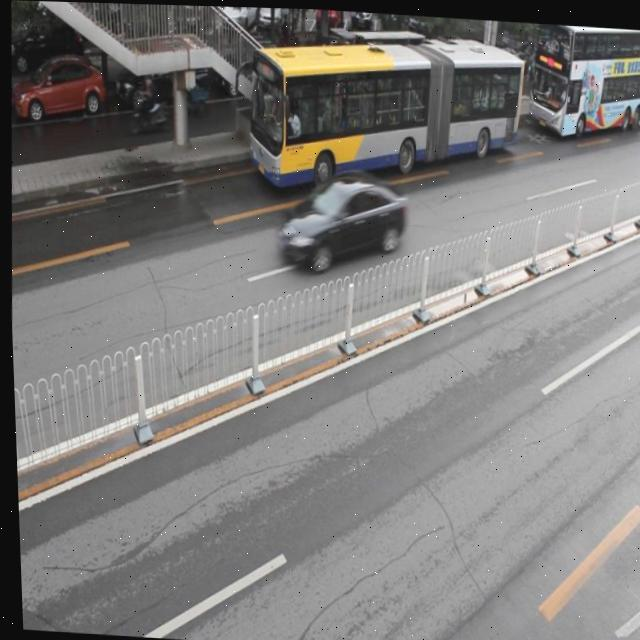car: (276, 165, 407, 273), (9, 51, 106, 124), (111, 39, 207, 105), (216, 33, 287, 100), (299, 33, 375, 95)
van: (245, 25, 526, 188), (525, 20, 640, 132)
